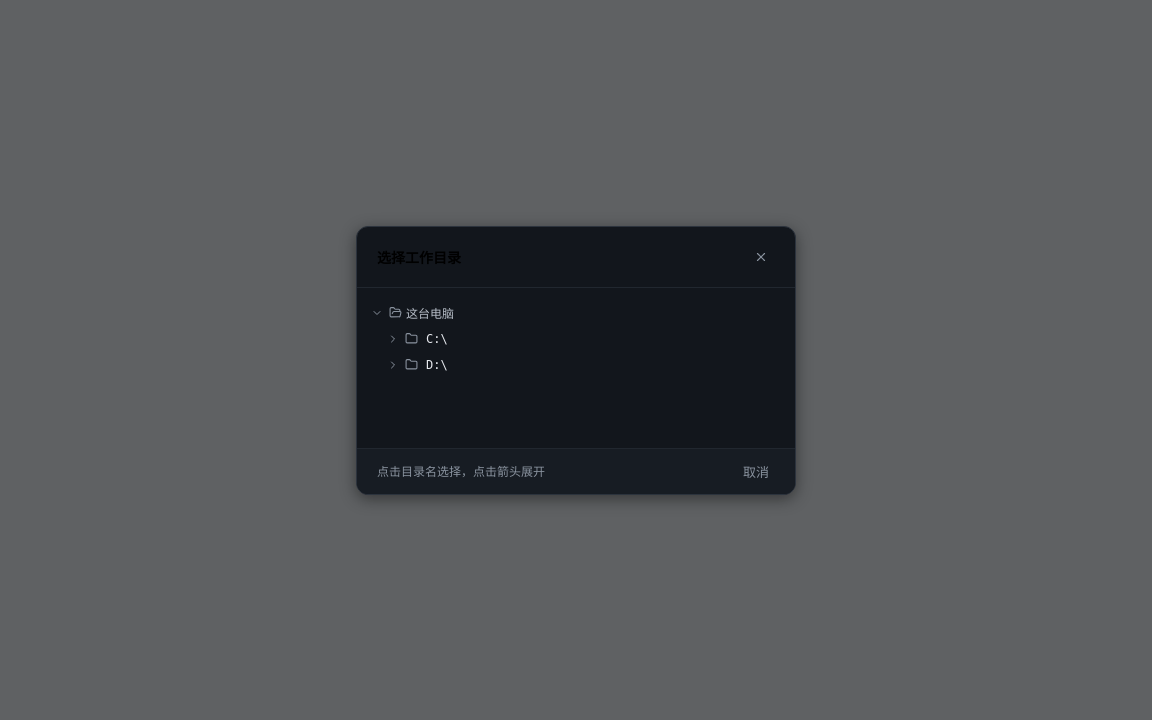
DirectoryPicker (browse: machine-wide, unrestricted) › flags truncated directories with the …截断 hint
Click the button named "展开 C:\\".
click(393, 338)  # box left=385, top=328, right=401, bottom=348
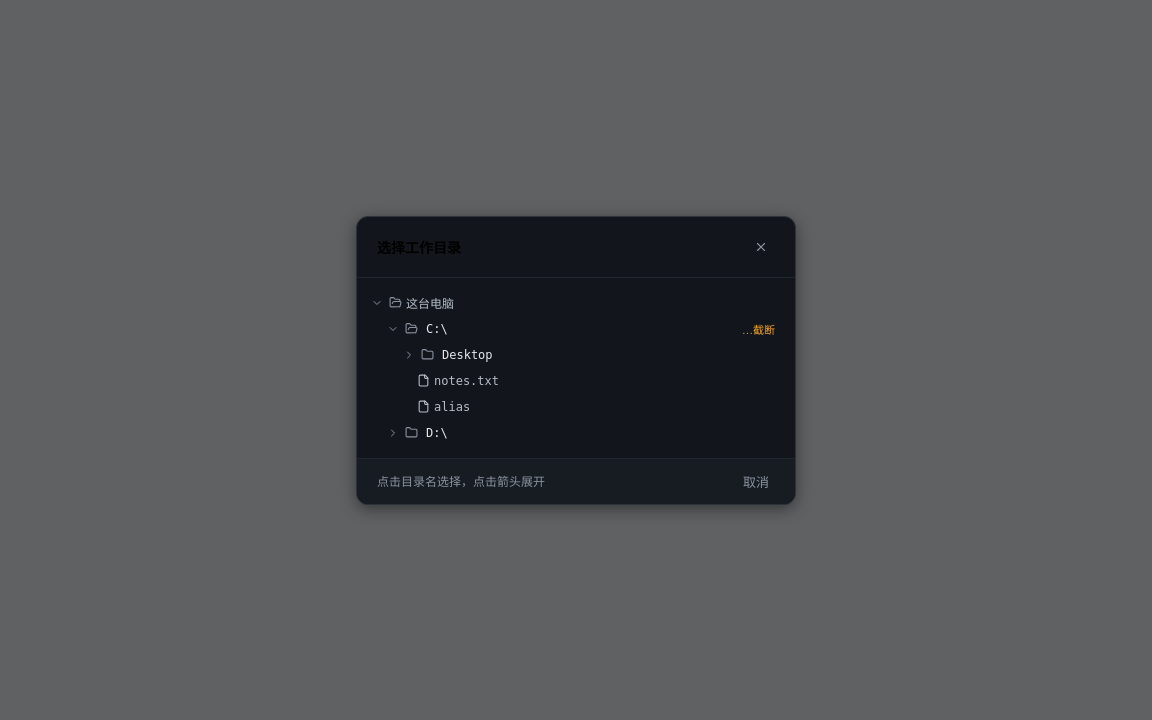
Check: the text "…截断" is shown, box left=742, top=320, right=775, bottom=336
Check: the button "Desktop" is shown, box left=438, top=348, right=775, bottom=362
